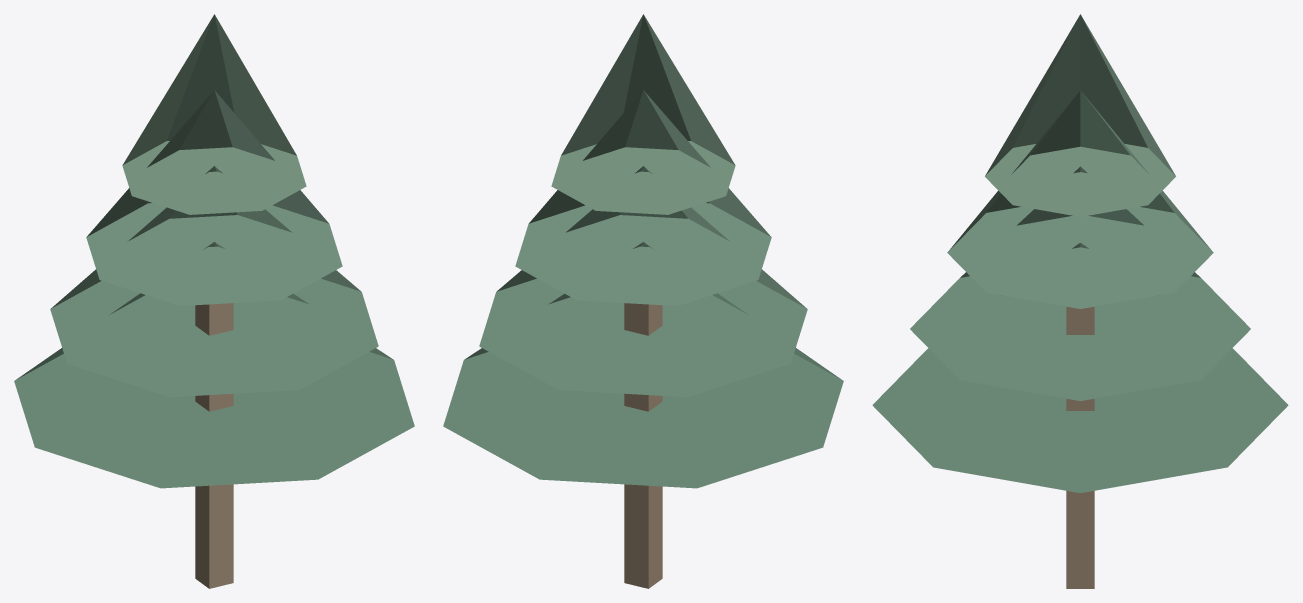
3 views of the same model, side by side, from view 1: azimuth 30°, elevation 25°; view 2: azimuth 150°, elevation 25°; view 3: azimuth 270°, elevation 25° (orthographic).
Size of the model in its own units: 5.2 by 7.84 by 5.2.
